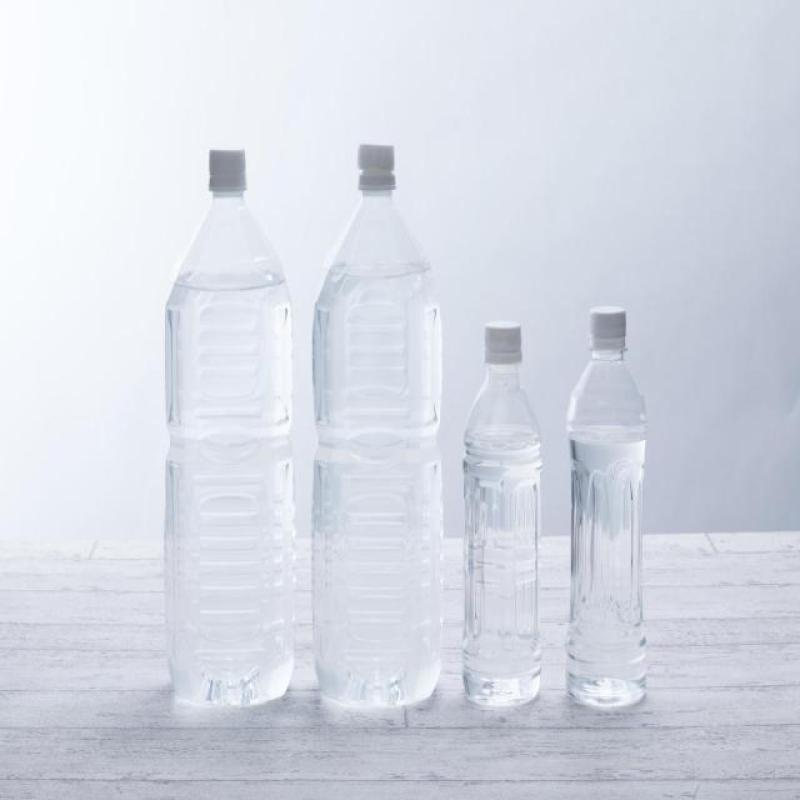botella: (308, 146, 444, 707), (160, 152, 296, 707), (567, 309, 649, 709), (461, 324, 542, 705)
